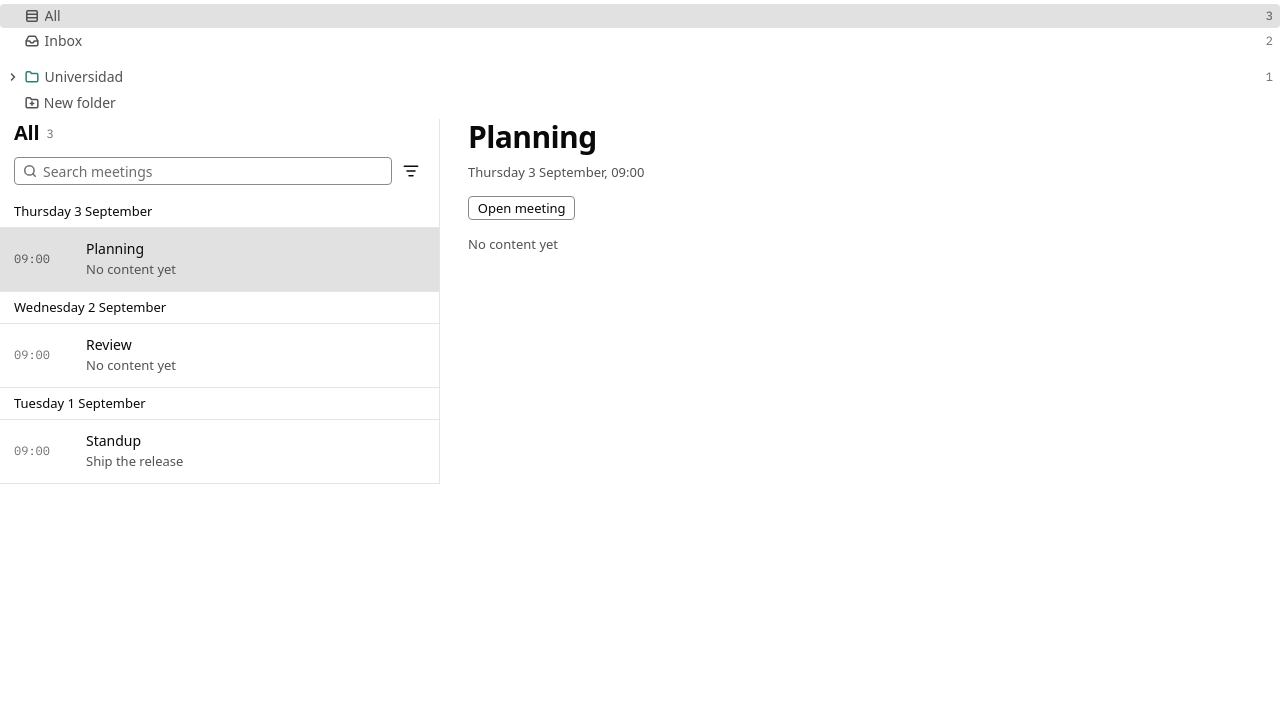
Test: folders › creates a folder: blocks a blank name, refuses a duplicate, selects the new one
Click the button "New folder": (80, 102) [0,90,1279,115]
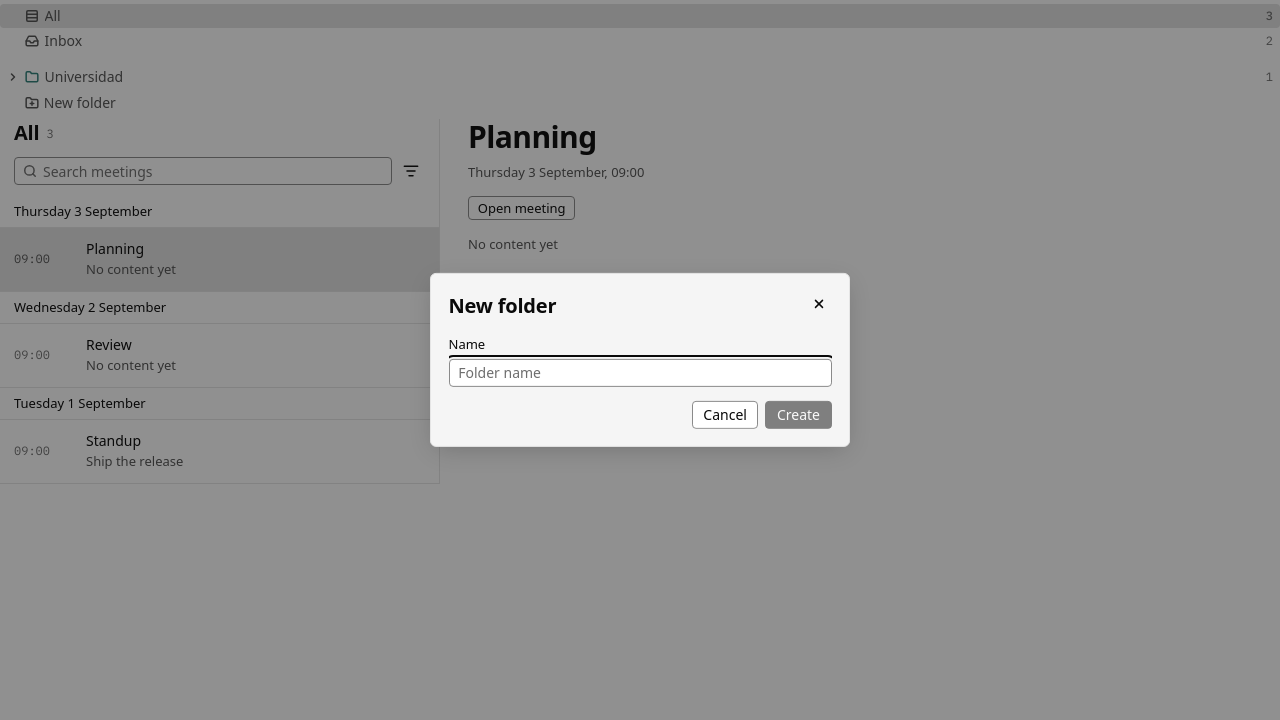
Check: the button "Create" is disabled, box [765,401,832,429]
In the field labelled "Name": (640, 373) [448,359,832,387], type "universidad"
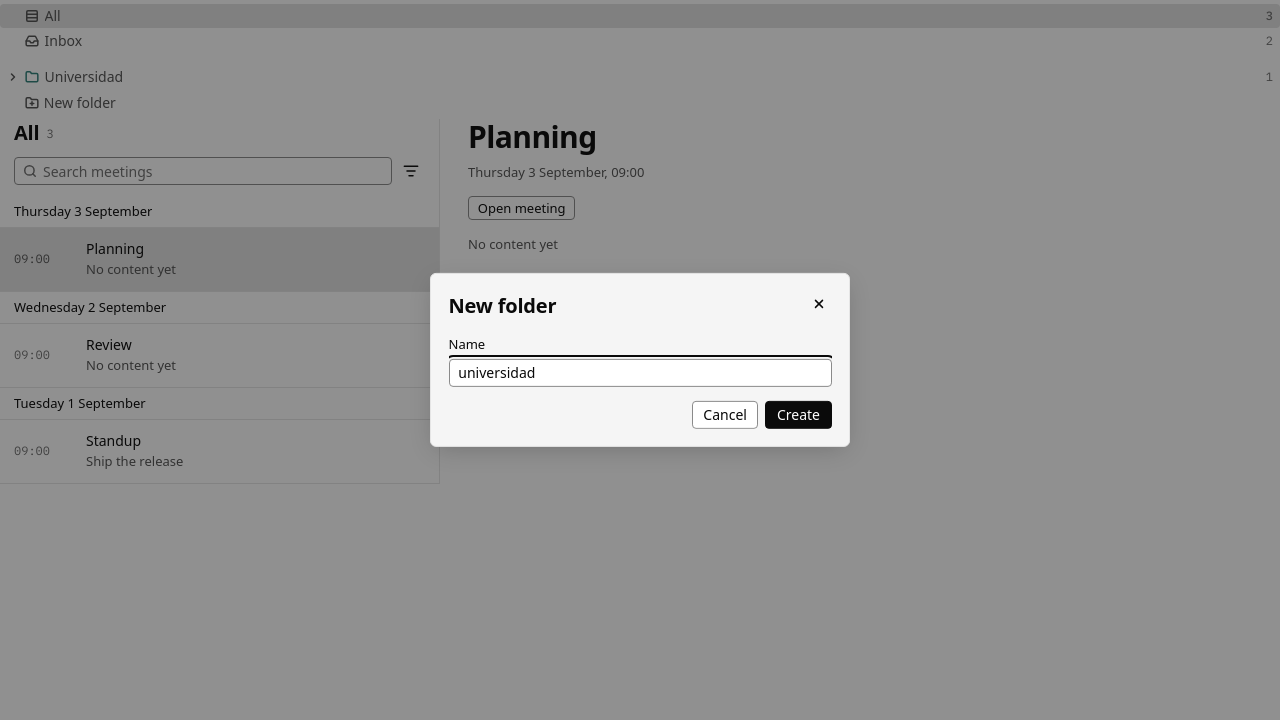
Click the button "Create": (798, 415) [765,401,832,429]
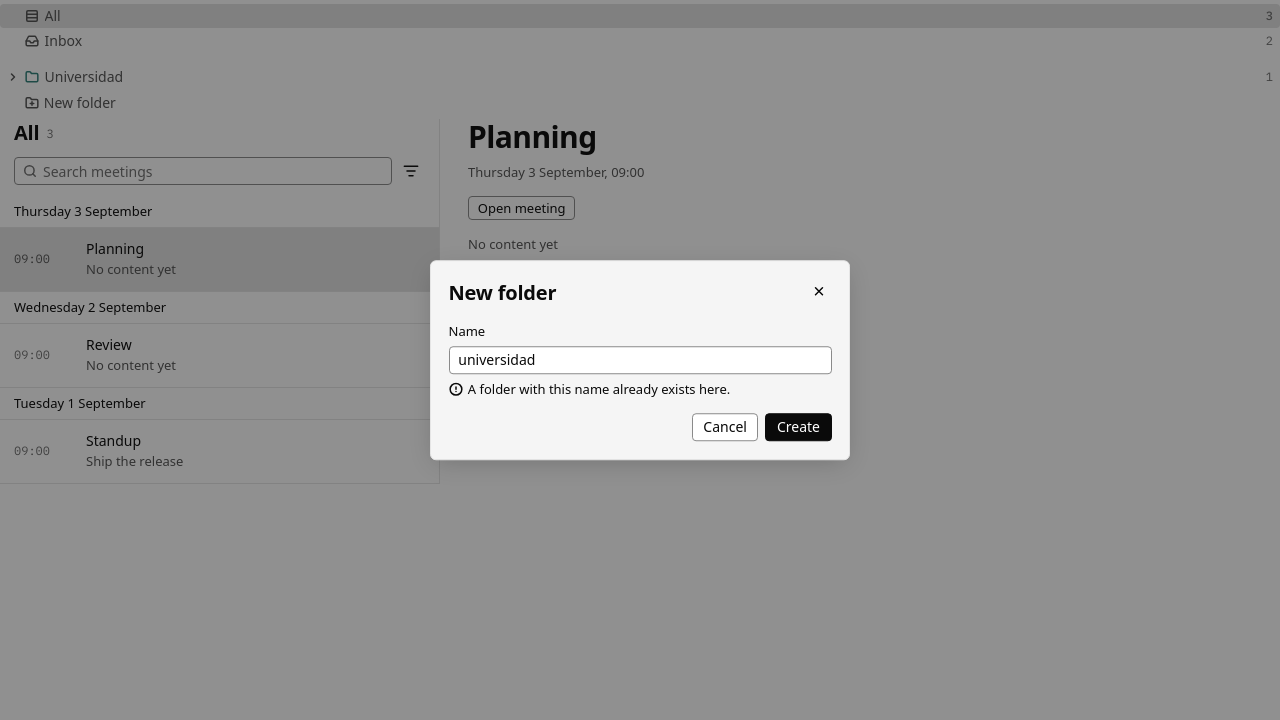
Check: the text "A folder with this name already exists here." is shown, box [468,379,730,399]
Clear the field labelled "Name": (640, 360) [448,346,832,374]
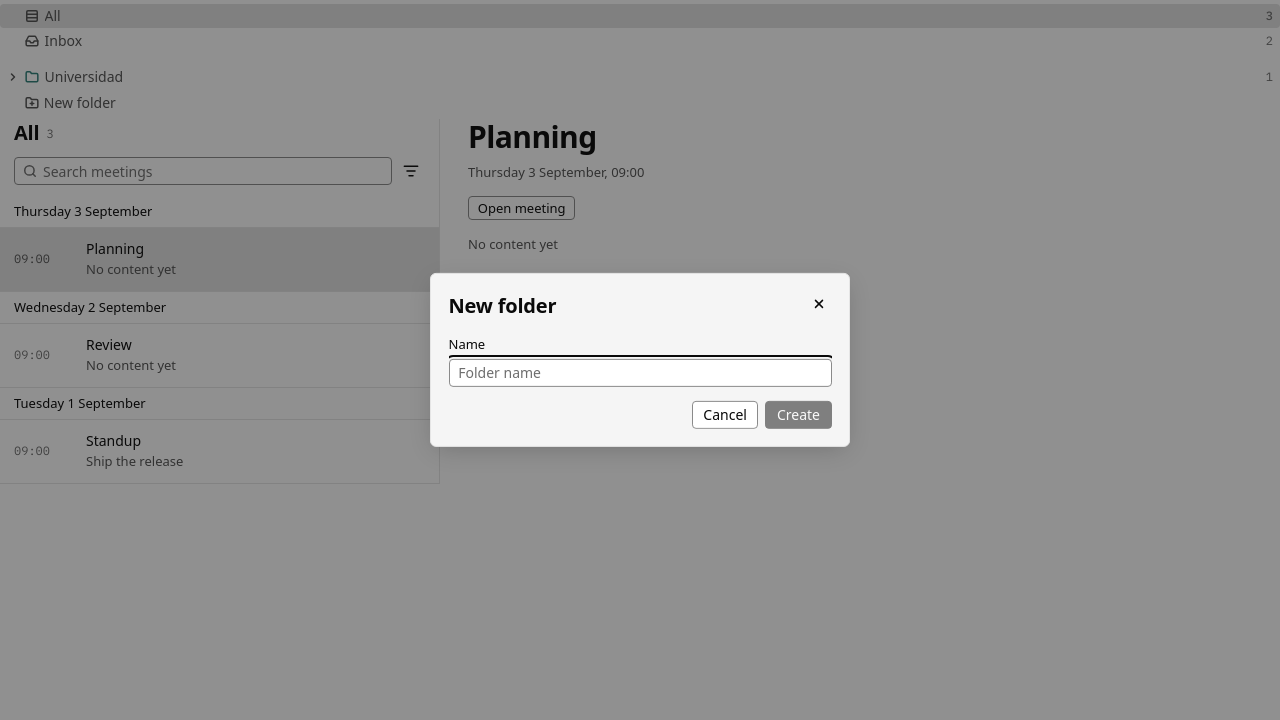
In the field labelled "Name": (640, 373) [448,359,832,387], type "  Trabajo  "
Then press Enter
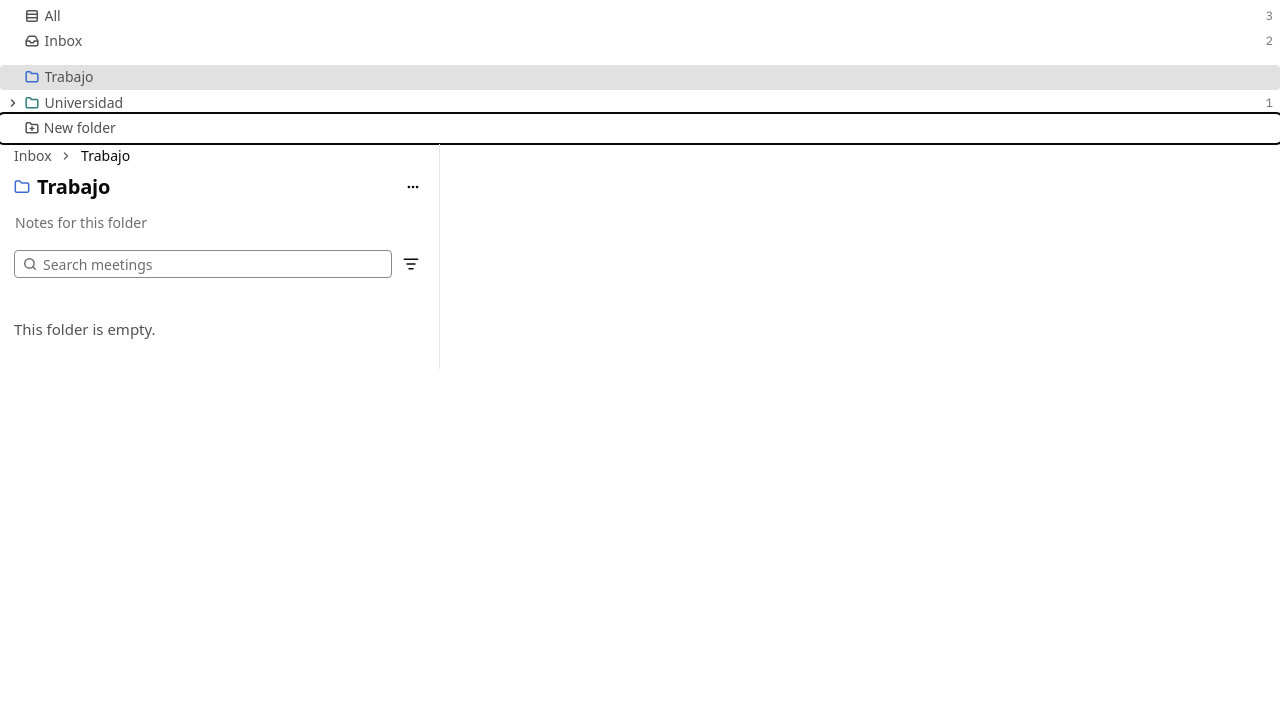
Check: the dialog is gone
